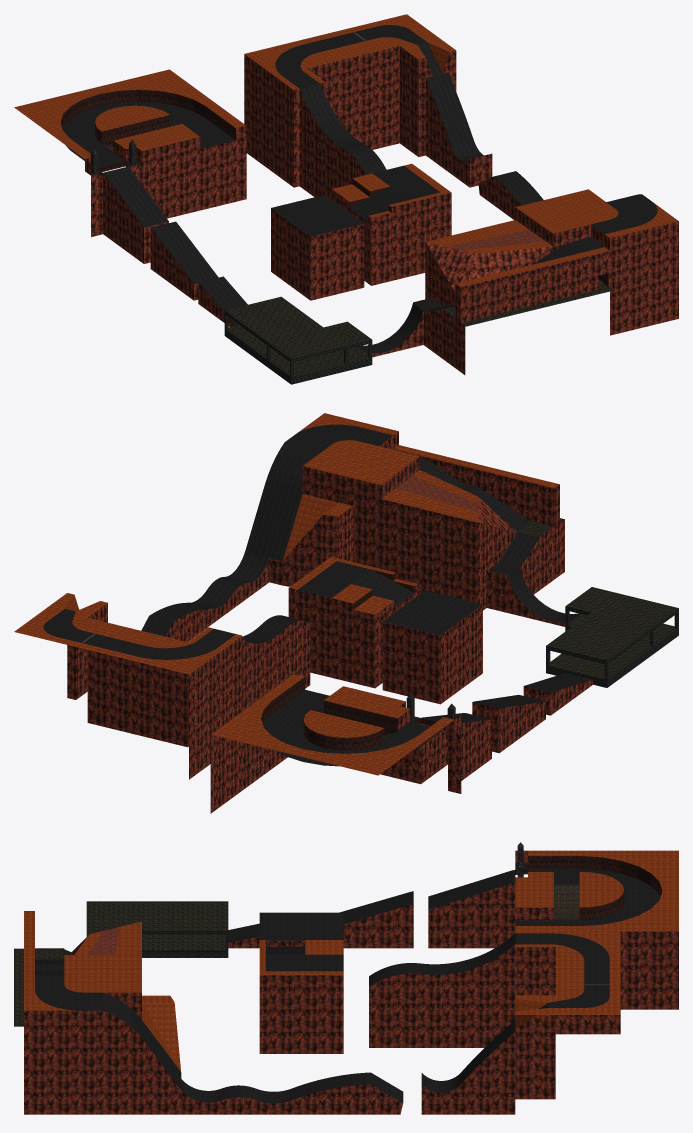
The picture shows the model from 3 angles, top to bottom: view 1: azimuth 30°, elevation 25°; view 2: azimuth 150°, elevation 25°; view 3: azimuth 270°, elevation 25°; orthographic projection. The views are drawn at different scales.
Visible parts, largest first — view 1: Temple_Bay_v5_0_Main-paroi1, Temple_Bay_v5_0_Main-road1, Temple_Bay_v5_0_Main-heavyoffroad, Temple_Bay_v5_0_Main-secret, Temple_Bay_v5_0_Main-mur1, Temple_Bay_v5_0_Main-temple1, Temple_Bay_v5_0_Main-herbe_weak_off_road; view 2: Temple_Bay_v5_0_Main-paroi1, Temple_Bay_v5_0_Main-road1, Temple_Bay_v5_0_Main-heavyoffroad, Temple_Bay_v5_0_Main-secret, Temple_Bay_v5_0_Main-mur1, Temple_Bay_v5_0_Main-temple1, Temple_Bay_v5_0_Main-herbe_weak_off_road; view 3: Temple_Bay_v5_0_Main-paroi1, Temple_Bay_v5_0_Main-road1, Temple_Bay_v5_0_Main-heavyoffroad, Temple_Bay_v5_0_Main-secret, Temple_Bay_v5_0_Main-mur1, Temple_Bay_v5_0_Main-temple1, Temple_Bay_v5_0_Main-cut_offroad, Temple_Bay_v5_0_Main-herbe_weak_off_road.
Part boxes in pixels (bbox=[...]): Temple_Bay_v5_0_Main-paroi1: bbox=[85, 46, 678, 374]; Temple_Bay_v5_0_Main-road1: bbox=[62, 25, 657, 353]; Temple_Bay_v5_0_Main-heavyoffroad: bbox=[14, 14, 678, 287]; Temple_Bay_v5_0_Main-secret: bbox=[225, 279, 613, 376]; Temple_Bay_v5_0_Main-mur1: bbox=[60, 89, 608, 318]; Temple_Bay_v5_0_Main-temple1: bbox=[224, 311, 372, 384]; Temple_Bay_v5_0_Main-herbe_weak_off_road: bbox=[447, 229, 545, 250]; Temple_Bay_v5_0_Main-paroi1: bbox=[67, 431, 592, 813]; Temple_Bay_v5_0_Main-road1: bbox=[43, 424, 592, 766]; Temple_Bay_v5_0_Main-heavyoffroad: bbox=[14, 413, 559, 775]; Temple_Bay_v5_0_Main-secret: bbox=[341, 500, 678, 679]; Temple_Bay_v5_0_Main-mur1: bbox=[261, 496, 553, 750]; Temple_Bay_v5_0_Main-temple1: bbox=[546, 606, 678, 687]; Temple_Bay_v5_0_Main-herbe_weak_off_road: bbox=[396, 475, 478, 510]; Temple_Bay_v5_0_Main-paroi1: bbox=[24, 850, 678, 1114]; Temple_Bay_v5_0_Main-road1: bbox=[14, 863, 660, 1103]; Temple_Bay_v5_0_Main-heavyoffroad: bbox=[24, 850, 678, 1071]; Temple_Bay_v5_0_Main-secret: bbox=[14, 901, 228, 1026]; Temple_Bay_v5_0_Main-mur1: bbox=[35, 856, 662, 949]; Temple_Bay_v5_0_Main-temple1: bbox=[142, 931, 228, 957]; Temple_Bay_v5_0_Main-cut_offroad: bbox=[554, 884, 579, 920]; Temple_Bay_v5_0_Main-herbe_weak_off_road: bbox=[88, 927, 119, 954].
Size of the model in its own units: 72790 by 18526 by 107474.
12 materials, 12 textured.
